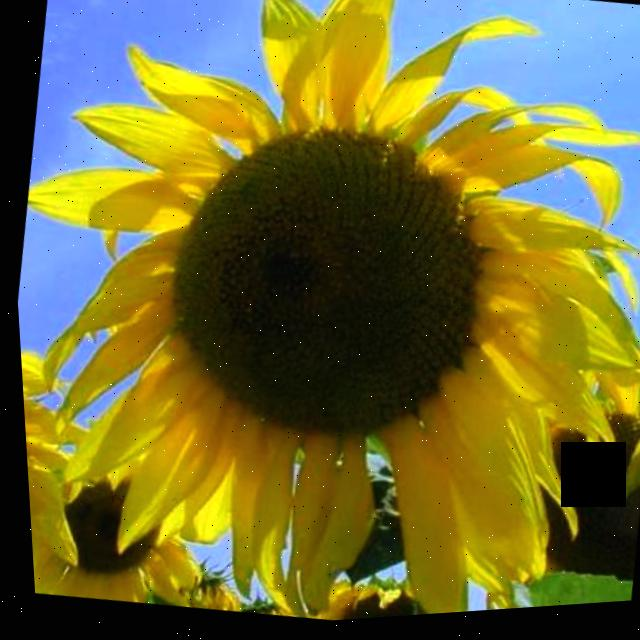sunflower: (6, 0, 640, 640)
